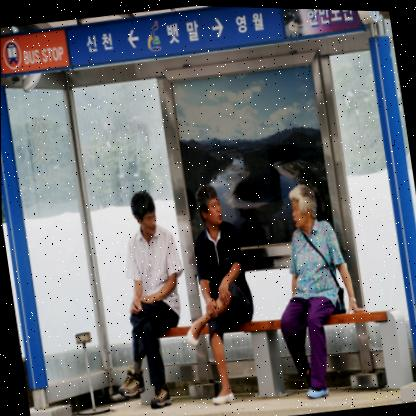person: (166, 150, 267, 407), (267, 168, 367, 401), (104, 169, 191, 408)
